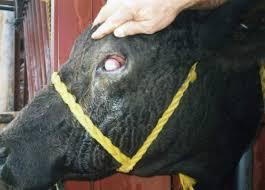infection: (74, 46, 134, 91)
